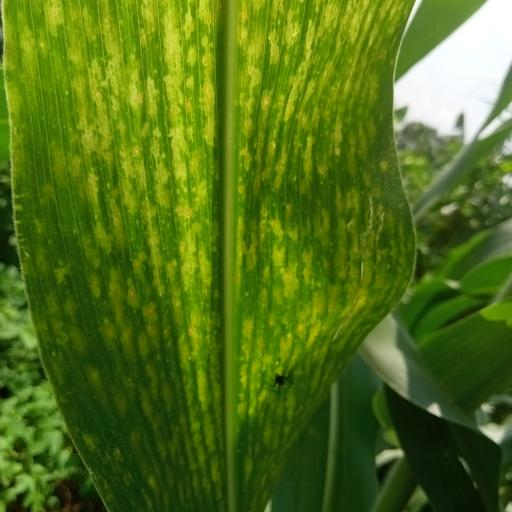Corn_Brown_Spots: (10, 0, 410, 512)
